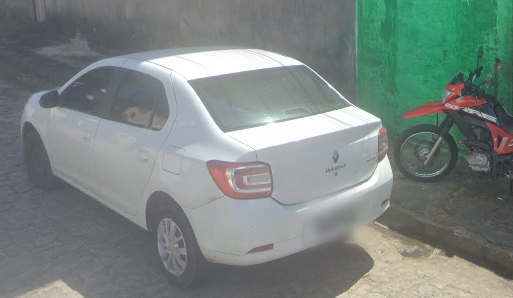car: (17, 43, 395, 290)
